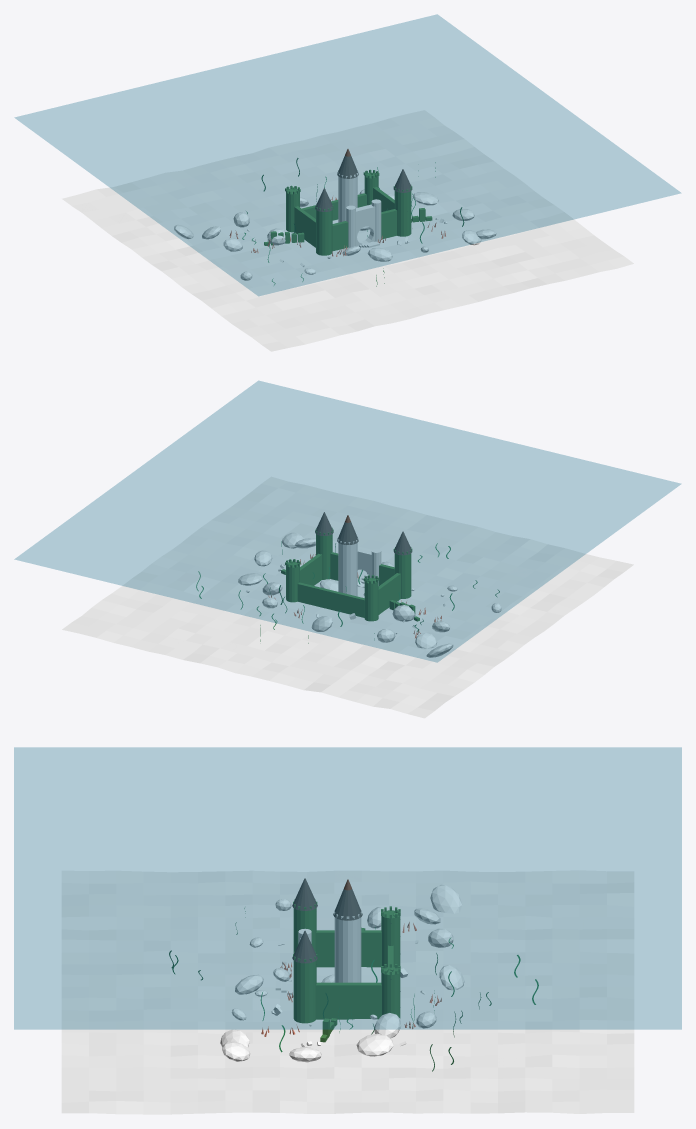
Rendered from sunken_castle.glb.
3 renders of one model, top to bottom at view 1: azimuth 30°, elevation 25°; view 2: azimuth 150°, elevation 25°; view 3: azimuth 270°, elevation 25°, orthographic. The views are drawn at different scales.
Parts seen in each view (by area): view 1: WaterSurface, Seabed, Tower_FL_Body, Tower_FR_Body, Keep_Body, Gate_Box, Wall_Left; view 2: WaterSurface, Seabed, Wall_Back, Keep_Body, Wall_Left, Tower_FL_Body, Tower_BL_Body, Wall_Right, Tower_FR_Body; view 3: WaterSurface, Seabed, Wall_Right, Keep_Body, Wall_Left, Tower_FR_Body, Tower_BL_Body, Tower_BR_Body, Rock_14, Keep_Roof, Tower_FL_Body, Rock_4.
Boxes of the visible parts, left/top/right/bottom form: WaterSurface: left=15, top=14, right=680, bottom=295; Seabed: left=62, top=110, right=633, bottom=351; Tower_FL_Body: left=316, top=210, right=332, bottom=255; Tower_FR_Body: left=394, top=191, right=411, bottom=236; Keep_Body: left=338, top=176, right=357, bottom=222; Gate_Box: left=355, top=204, right=375, bottom=246; Wall_Left: left=294, top=206, right=315, bottom=247; WaterSurface: left=14, top=381, right=680, bottom=662; Seabed: left=62, top=476, right=633, bottom=718; Wall_Back: left=297, top=582, right=364, bottom=617; Keep_Body: left=338, top=543, right=357, bottom=596; Wall_Left: left=378, top=573, right=400, bottom=614; Tower_FL_Body: left=394, top=553, right=411, bottom=598; Tower_BL_Body: left=364, top=578, right=378, bottom=621; Wall_Right: left=300, top=553, right=322, bottom=585; Tower_FR_Body: left=316, top=534, right=332, bottom=579; WaterSurface: left=14, top=747, right=681, bottom=1029; Seabed: left=61, top=870, right=634, bottom=1114; Wall_Right: left=316, top=982, right=381, bottom=1019; Keep_Body: left=334, top=917, right=361, bottom=982; Wall_Left: left=316, top=930, right=381, bottom=967; Tower_FR_Body: left=293, top=960, right=316, bottom=1023; Tower_BL_Body: left=381, top=910, right=400, bottom=967; Tower_BR_Body: left=381, top=967, right=400, bottom=1018; Rock_14: left=430, top=884, right=461, bottom=913; Keep_Roof: left=333, top=879, right=362, bottom=920; Tower_FL_Body: left=293, top=908, right=316, bottom=953; Rock_4: left=356, top=1033, right=393, bottom=1056.
Bounding box in the file's own units: 70 × 13.68 × 70.
